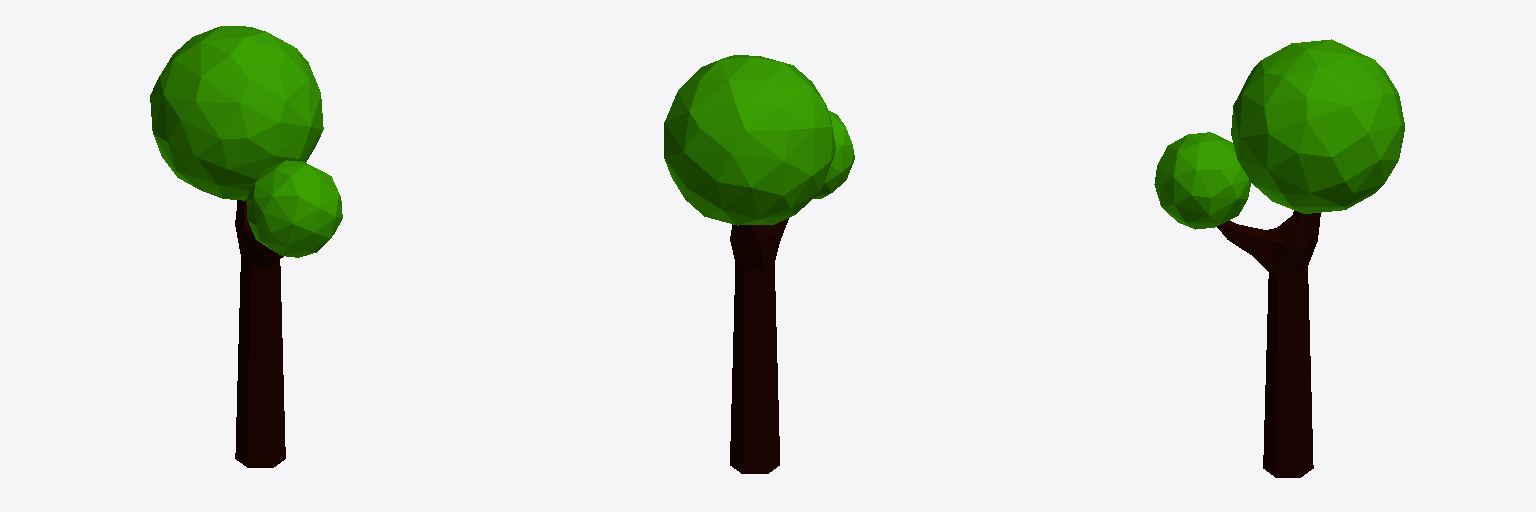
The model's file is Tree6.obj.
3 views of the same model, side by side, from view 1: azimuth 30°, elevation 25°; view 2: azimuth 150°, elevation 25°; view 3: azimuth 270°, elevation 25° (orthographic).
Parts seen in each view (by area): view 1: Icosphere_Icosphere_002, Cylinder_014, Icosphere_001_Icosphere_003; view 2: Icosphere_Icosphere_002, Cylinder_014, Icosphere_001_Icosphere_003; view 3: Icosphere_Icosphere_002, Cylinder_014, Icosphere_001_Icosphere_003.
Boxes of the visible parts, x1=… form: Icosphere_Icosphere_002: x1=150, y1=26, x2=323, y2=200; Cylinder_014: x1=235, y1=200, x2=285, y2=467; Icosphere_001_Icosphere_003: x1=246, y1=160, x2=342, y2=257; Icosphere_Icosphere_002: x1=664, y1=55, x2=835, y2=225; Cylinder_014: x1=730, y1=218, x2=788, y2=473; Icosphere_001_Icosphere_003: x1=813, y1=110, x2=854, y2=198; Icosphere_Icosphere_002: x1=1231, y1=39, x2=1404, y2=213; Cylinder_014: x1=1217, y1=210, x2=1320, y2=477; Icosphere_001_Icosphere_003: x1=1154, y1=132, x2=1250, y2=229.
Size of the model in its own units: 1818 by 4785 by 2615.